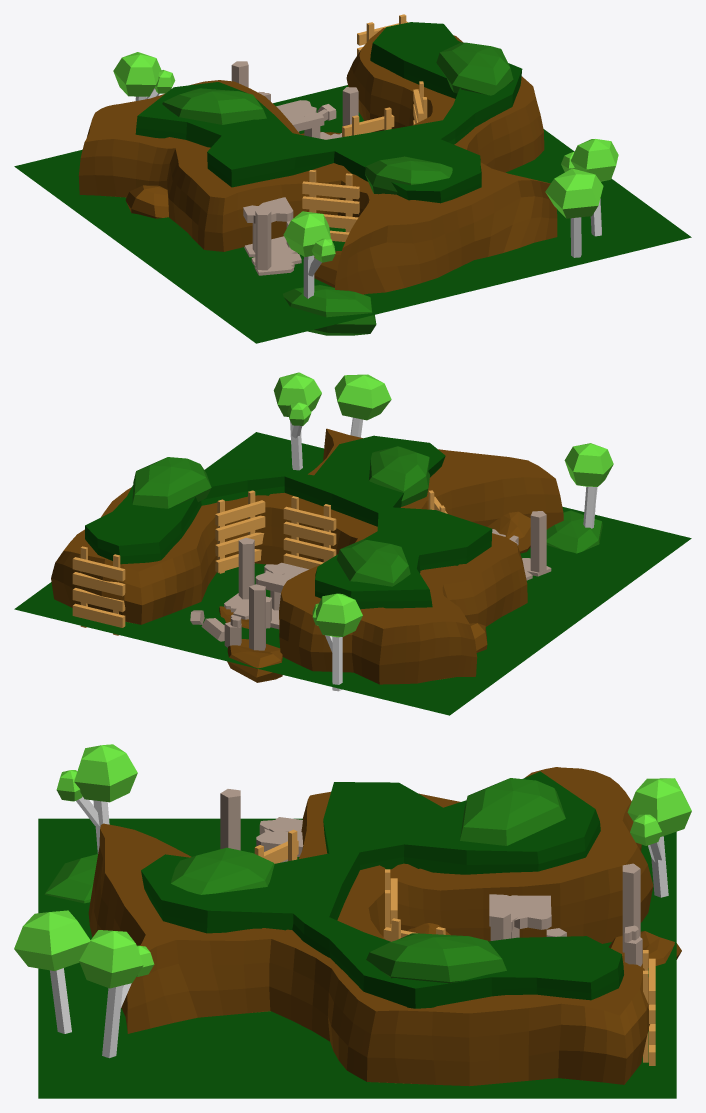
Rendered from forest_birch_dig.glb.
3 renders of one model, top to bottom at view 1: azimuth 30°, elevation 25°; view 2: azimuth 150°, elevation 25°; view 3: azimuth 270°, elevation 25°, orthographic. The views are drawn at different scales.
Parts seen in each view (by area): view 1: Digsite, 0Ground, Plane, bush, Ruins1.001, bush.029, bush.030, Tree2, Tree1.003, diggingWood.003, bush.028, Tree1.001 (+6 smaller); view 2: Digsite, 0Ground, Plane, bush, diggingWood.001, diggingWood, Ruins1, bush.030, bush.028, diggingWood.002, Tree1, Tree1.001 (+7 smaller); view 3: Digsite, 0Ground, Plane, bush.030, bush, Tree2, Tree1, Tree1.003, Tree1.001, bush.028, Ruins1, Ruins1.001 (+6 smaller).
Boxes of the visible parts, x1,y1,x2,y2 form: Digsite: [78, 27, 557, 294]; 0Ground: [14, 85, 691, 343]; Plane: [135, 22, 522, 203]; bush: [436, 42, 513, 95]; Ruins1.001: [243, 197, 301, 275]; bush.029: [283, 284, 376, 335]; bush.030: [162, 88, 266, 124]; Tree2: [545, 168, 603, 257]; Tree1.003: [283, 211, 335, 298]; diggingWood.003: [302, 170, 359, 241]; bush.028: [365, 156, 452, 194]; Tree1.001: [113, 52, 175, 100]; Digsite: [51, 428, 563, 684]; 0Ground: [14, 432, 691, 715]; Plane: [85, 435, 492, 609]; bush: [132, 457, 211, 508]; diggingWood.001: [72, 546, 125, 635]; diggingWood: [283, 496, 336, 569]; Ruins1: [224, 537, 308, 629]; bush.030: [336, 539, 410, 586]; bush.028: [369, 446, 429, 506]; diggingWood.002: [215, 490, 265, 573]; Tree1: [273, 372, 321, 470]; Tree1.001: [312, 593, 362, 691]; Digsite: [88, 767, 653, 1086]; 0Ground: [38, 818, 676, 1098]; Plane: [141, 771, 623, 1008]; bush.030: [460, 778, 565, 845]; bush: [366, 933, 506, 983]; Tree2: [14, 910, 90, 1033]; Tree1: [79, 930, 154, 1058]; Tree1.003: [56, 744, 137, 853]; Tree1.001: [627, 778, 691, 897]; bush.028: [171, 847, 274, 894]; Ruins1: [489, 894, 566, 940]; Ruins1.001: [220, 789, 303, 862].
Size of the model in its own units: 9.34 by 2.53 by 9.56.
